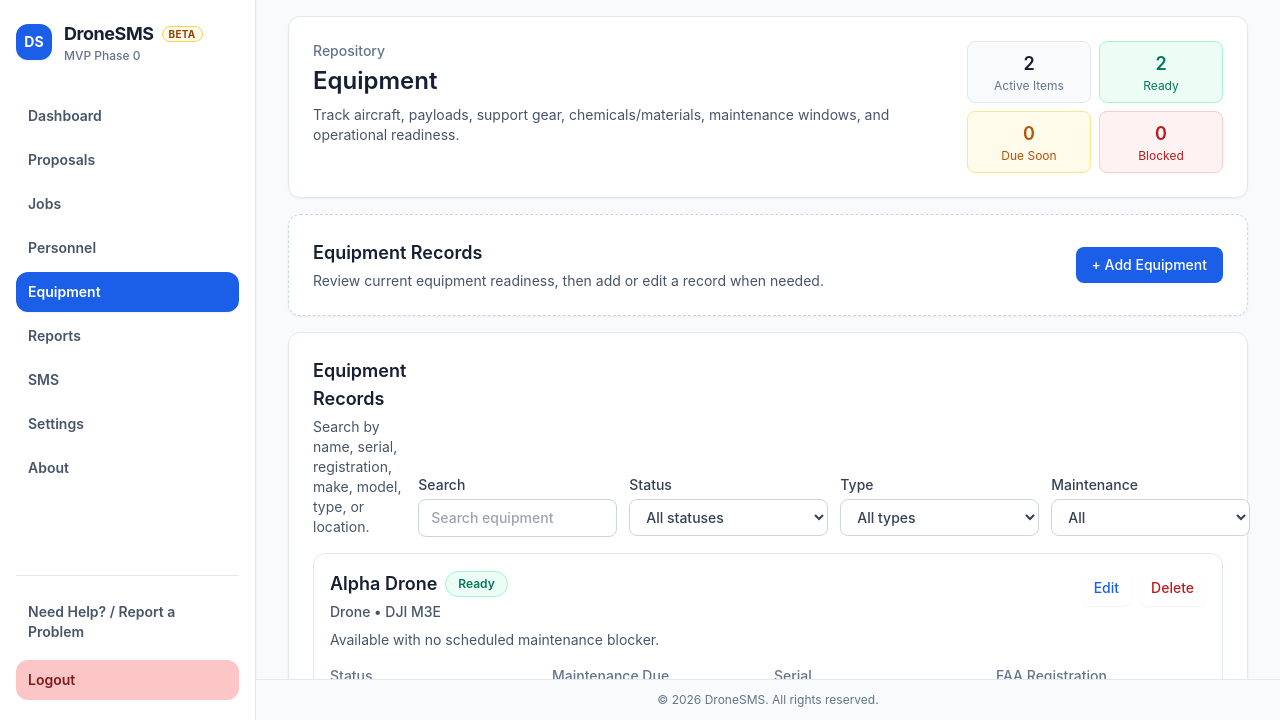
Equipment inline editing › opens the edit form in place of the record, prefilled, without scrolling the page
The image size is (1280, 720).
Click the button "Edit" at (1106, 588), box [1082,570,1131,606]
(page scrolled)
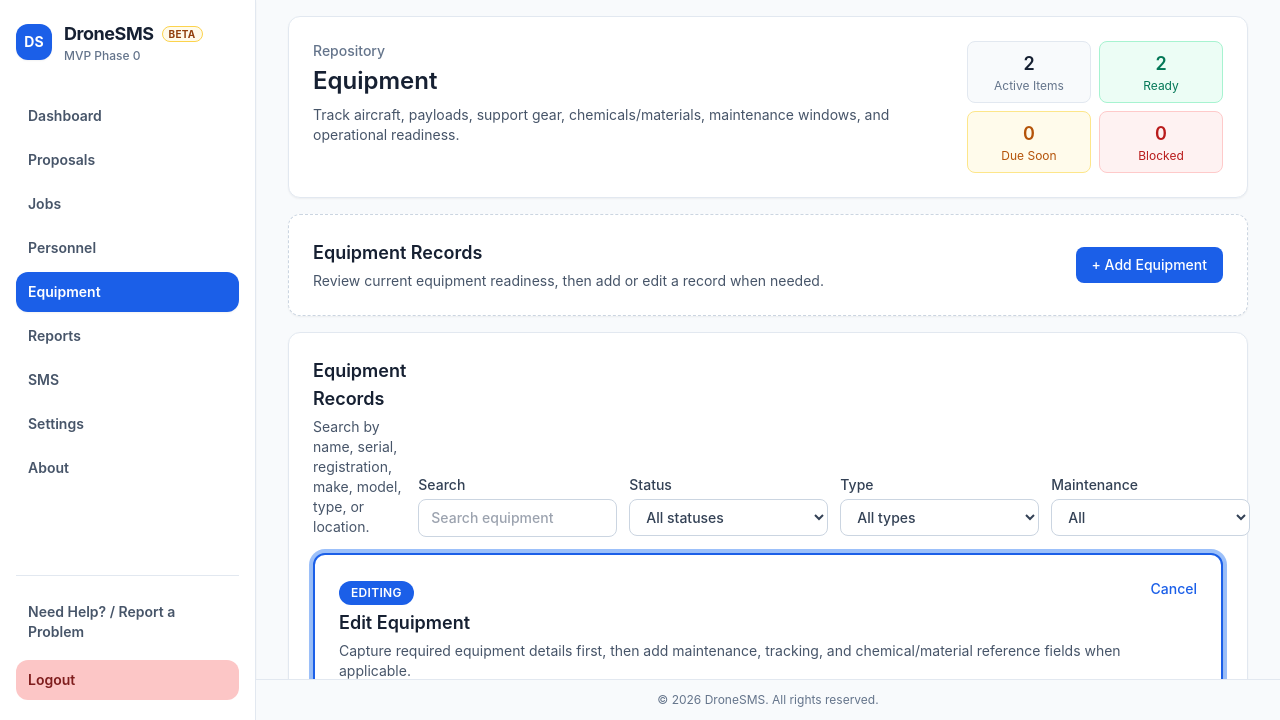
Expected: the button "+ Add Equipment" is shown, [1076,247,1223,283]
Expected: the text "Editing" is shown, [339,581,414,605]
Expected: the button "Cancel" is shown, [1150,579,1197,599]
